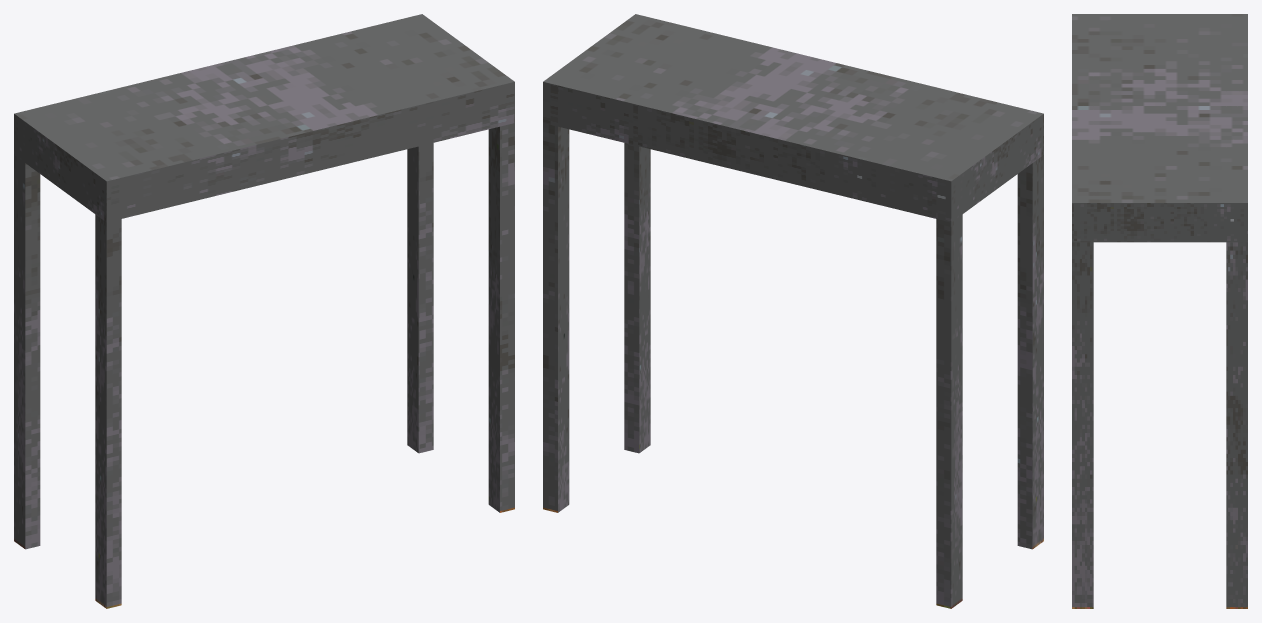
Rendered from Stillage.fbx.
3 views of the same model, side by side, from view 1: azimuth 30°, elevation 25°; view 2: azimuth 150°, elevation 25°; view 3: azimuth 270°, elevation 25° (orthographic). The views are drawn at different scales.
Parts seen in each view (by area): view 1: Stillage; view 2: Stillage; view 3: Stillage.
Part boxes in pixels (x1,y1,x2,y2): Stillage: [14, 14, 514, 608]; Stillage: [543, 14, 1043, 608]; Stillage: [1072, 14, 1247, 608].
Size of the model in its own units: 301 by 301 by 118.
Materials: 1 (1 with a texture image).
